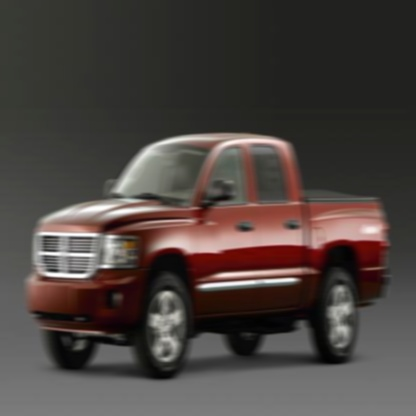Vehicle: (26, 131, 388, 380)
